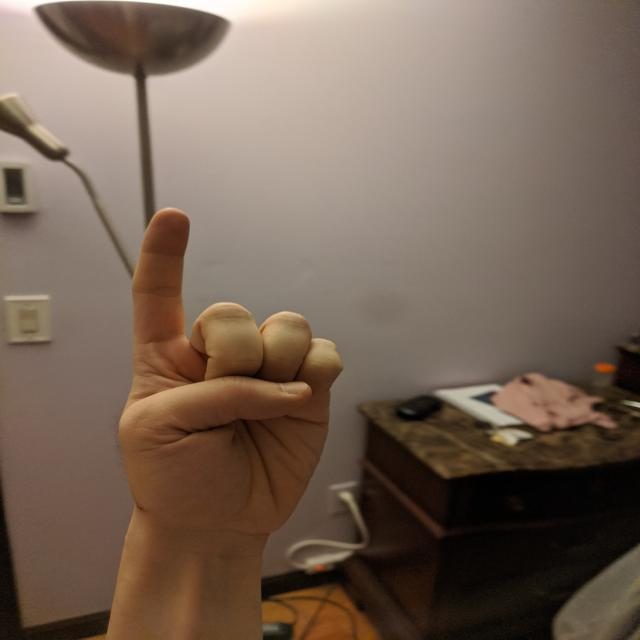D: (108, 202, 353, 552)
